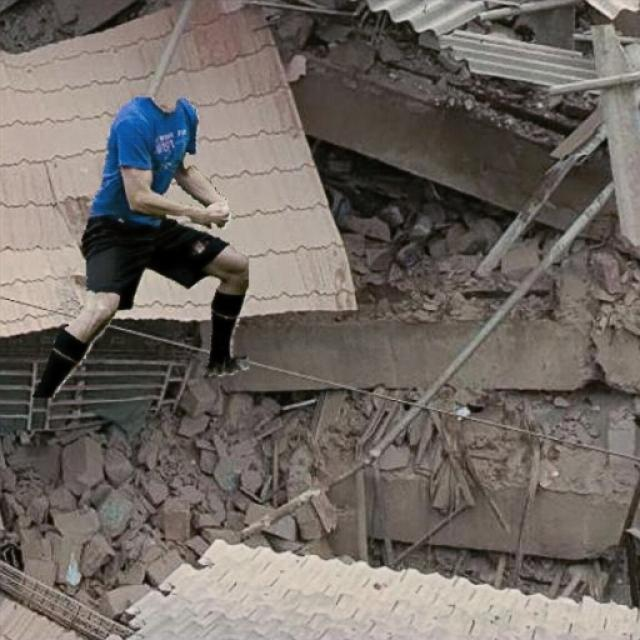Person in Rubble: (32, 98, 248, 396)
